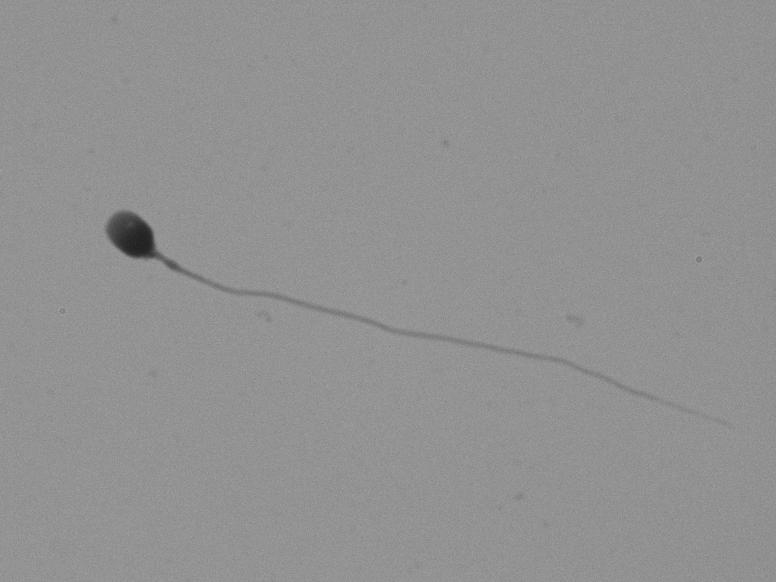Normal: (71, 185, 727, 436)
